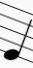E: (2, 3, 33, 62)
